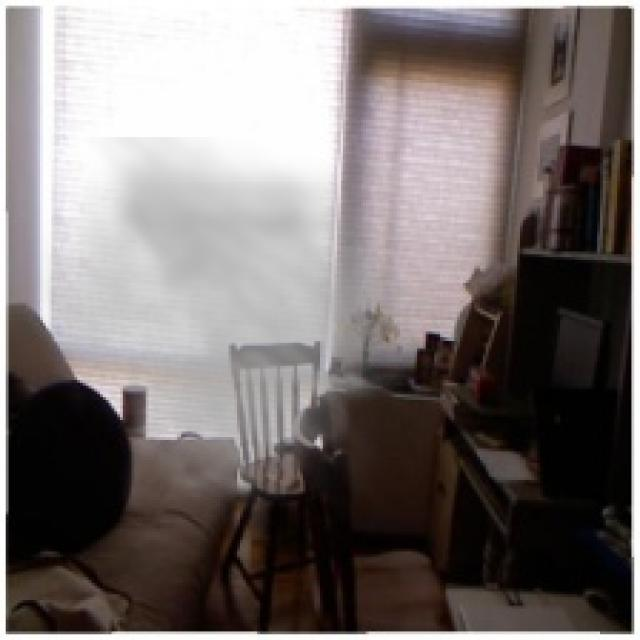smoke: (20, 137, 431, 546)
